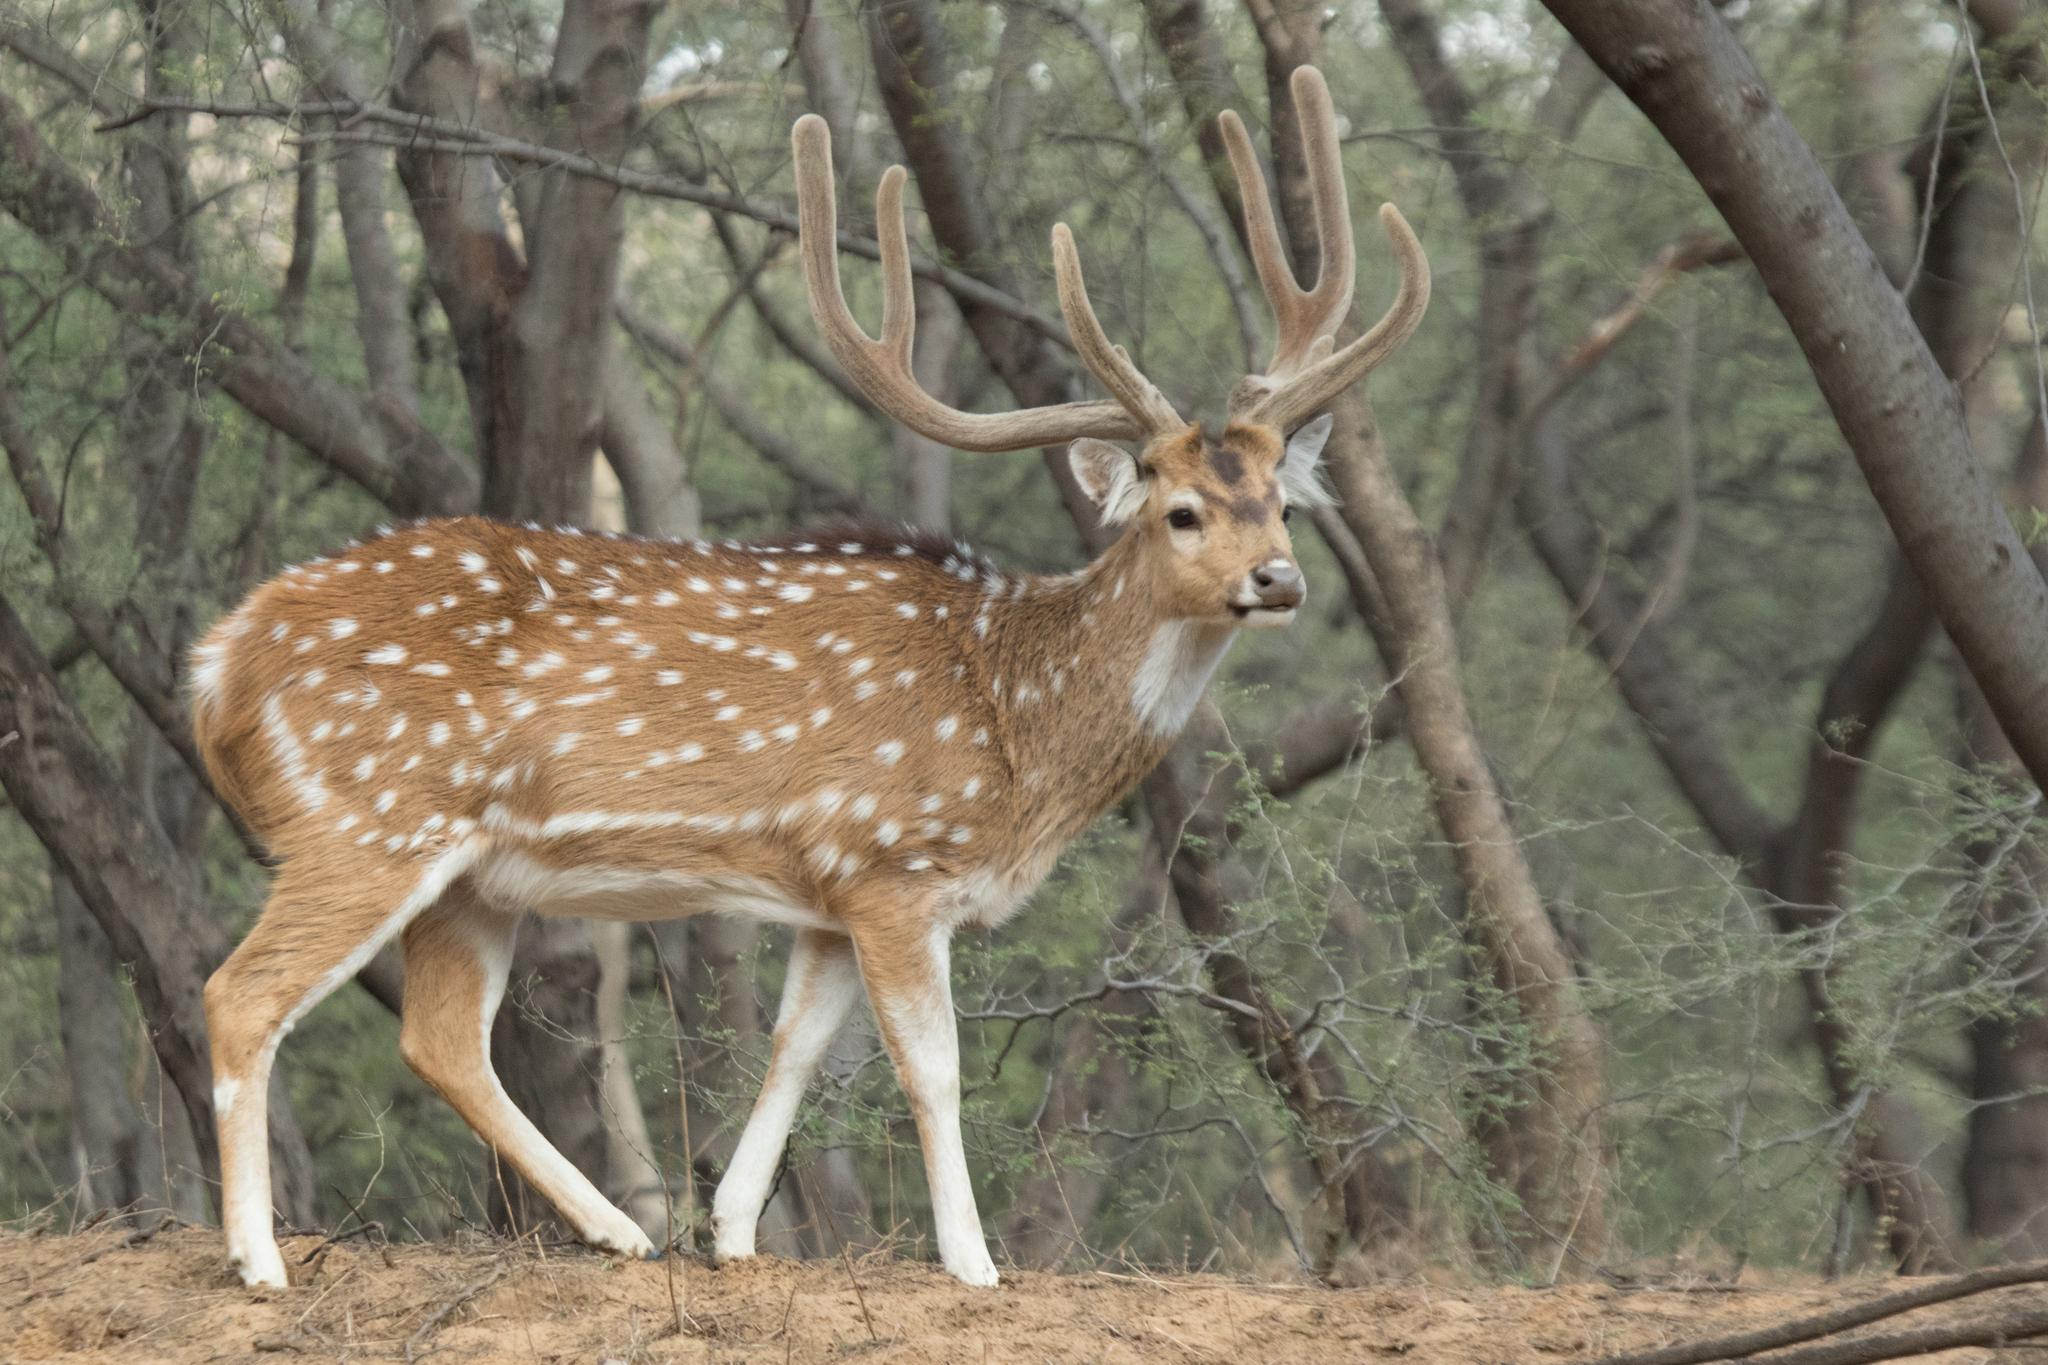Deer: (190, 66, 1428, 1286)
